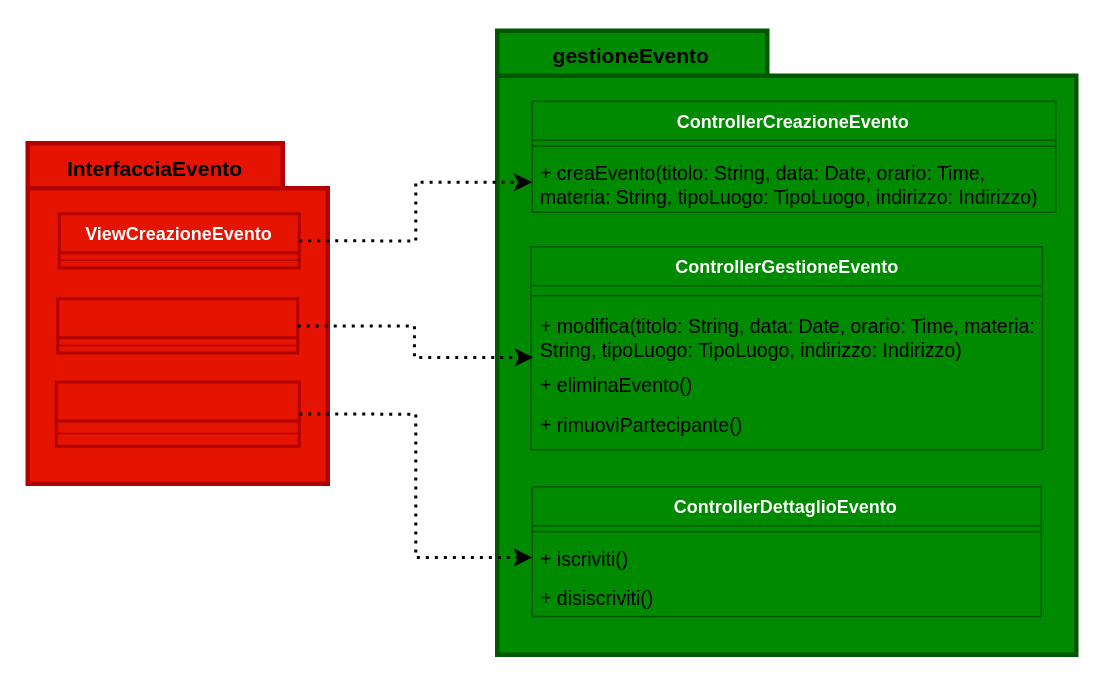
Image size: 1104x683. Some labels were removed from this diagram. The shapes that lost their labels are listed below. From the top down, each one's centre as x and y in pixels, then its label:
At point 177,325: "ViewGestioneEvento".
At point 177,413: "ViewDettaglioEvento".
